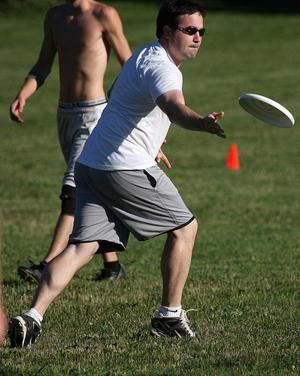person: (9, 1, 228, 347)
